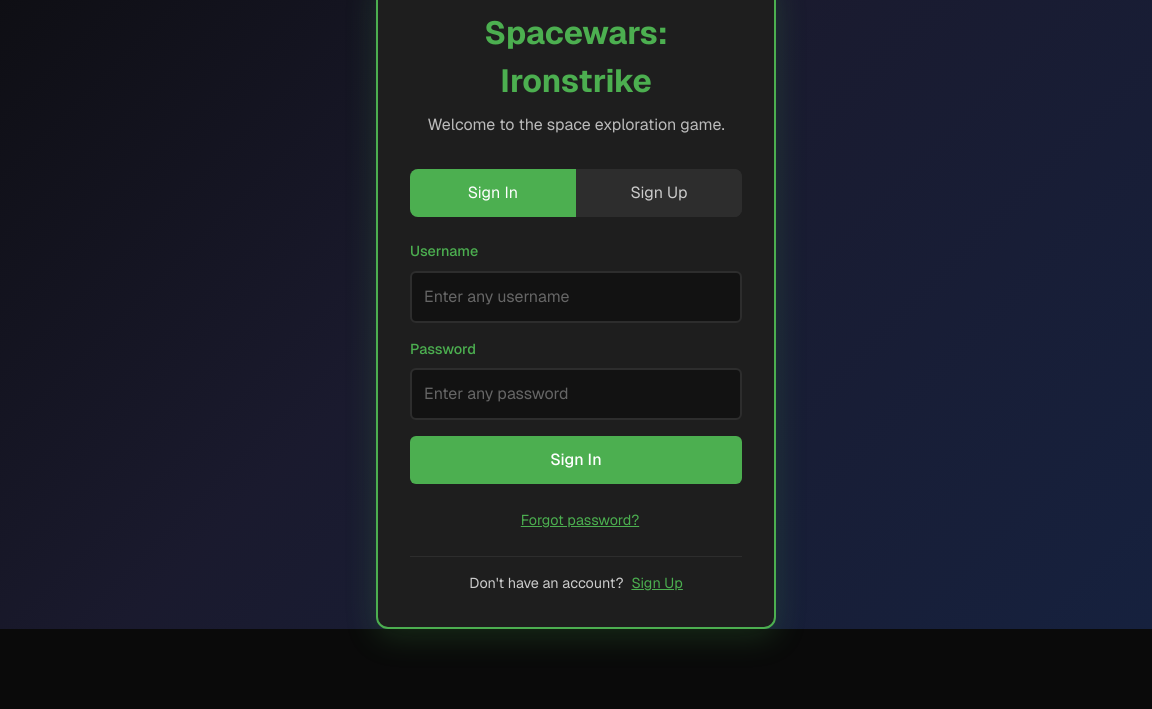
Test case: LoginPageComponent — forgot-password flow › forgotPassword_submitCallsHandler
This screenshot has width=1152, height=709.
(page scrolled)
Click the button "Forgot password?". click: (580, 521)
box: [521, 510, 639, 532]
(page scrolled)
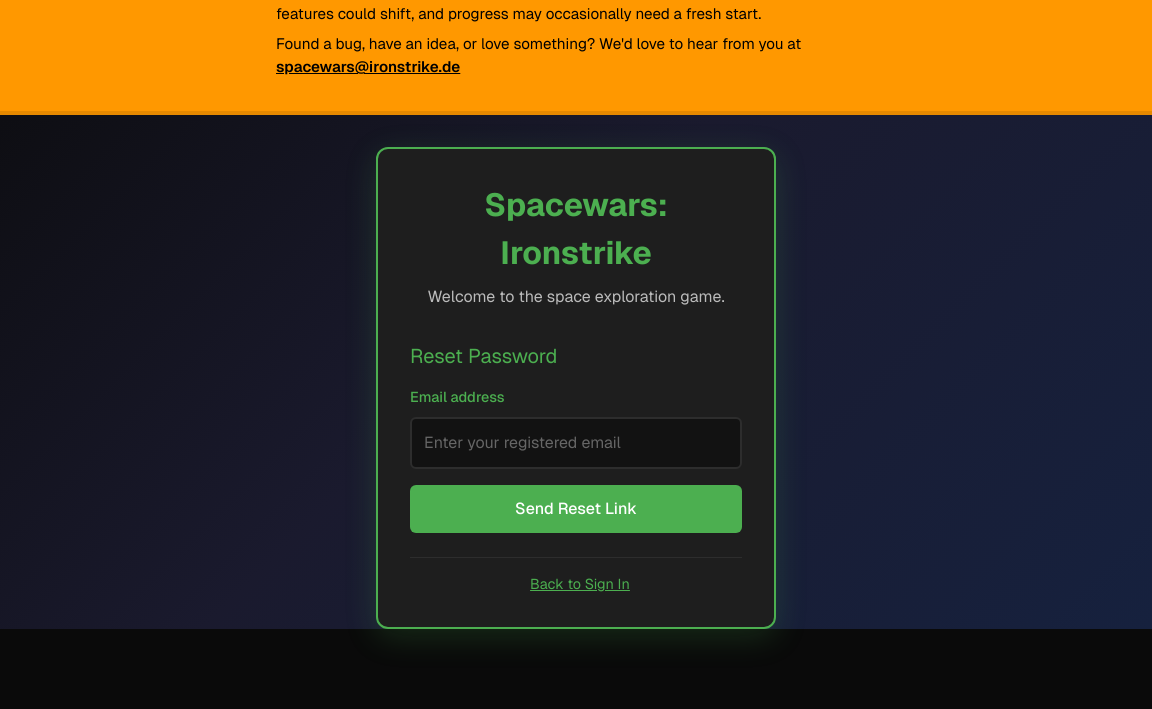
Type "user@example.com" into the field labelled "Email address". click: (576, 443)
box: [410, 417, 742, 469]
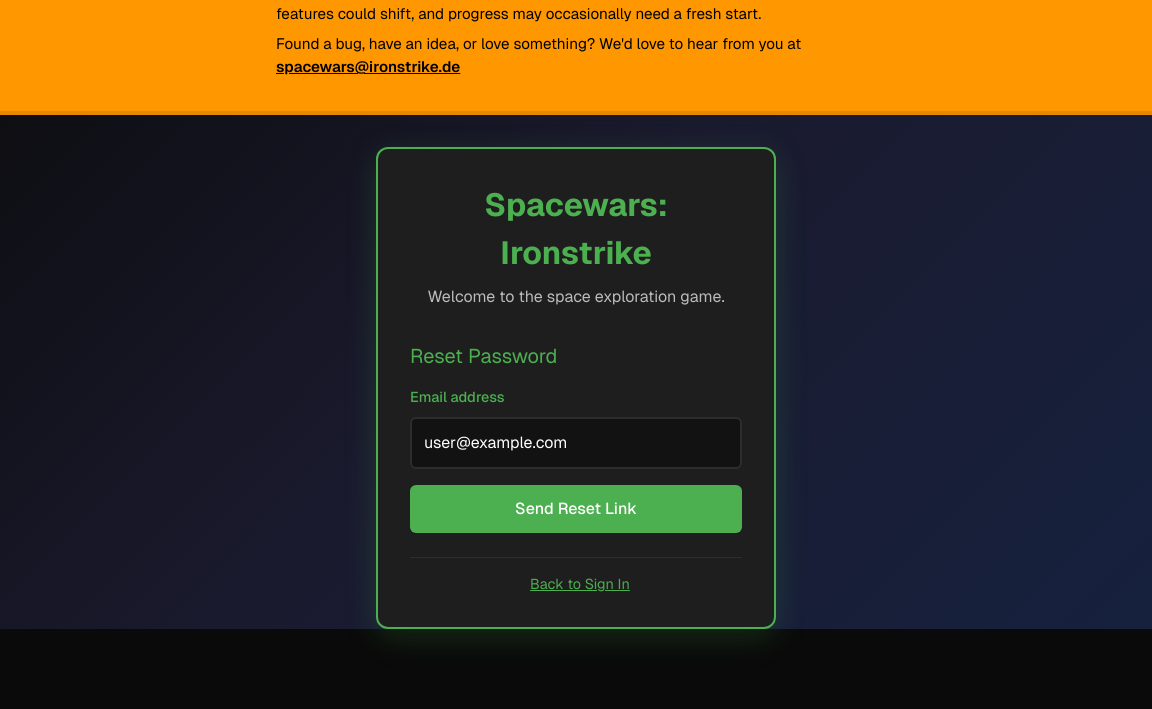
Click the button "Send Reset Link". click: (576, 509)
box: [410, 485, 742, 533]
(page scrolled)
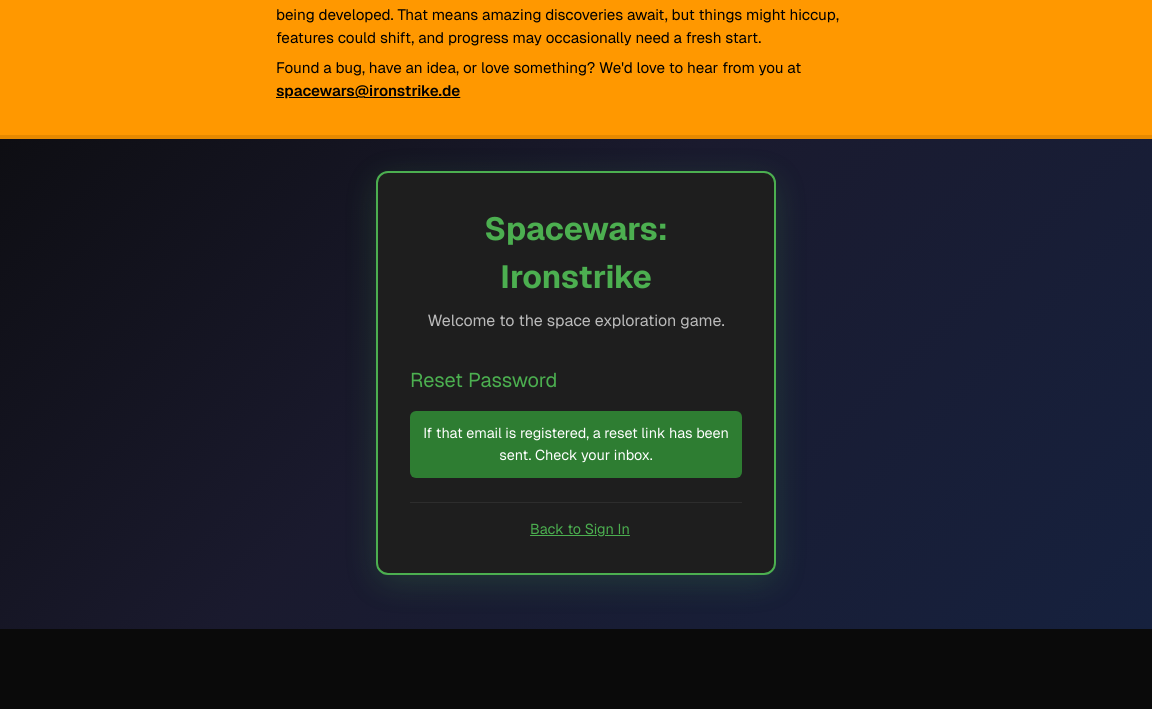
Check: the text "If that email is registered" is shown, box [423, 424, 729, 464]
